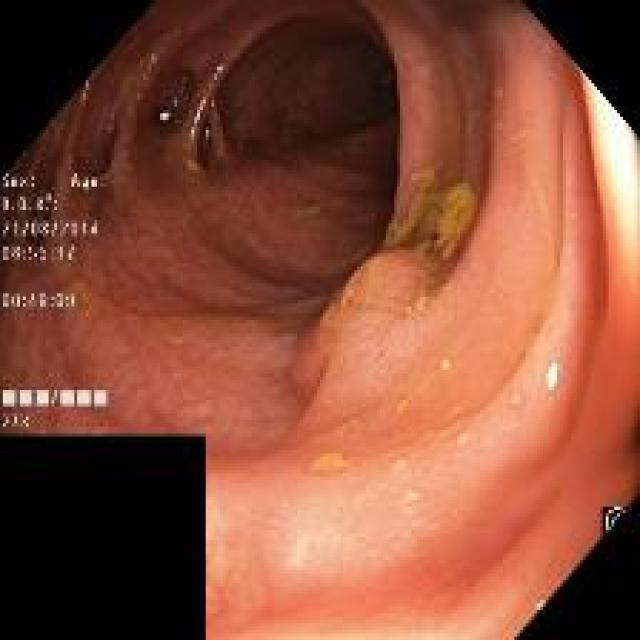Polyps: (292, 255, 426, 403)
